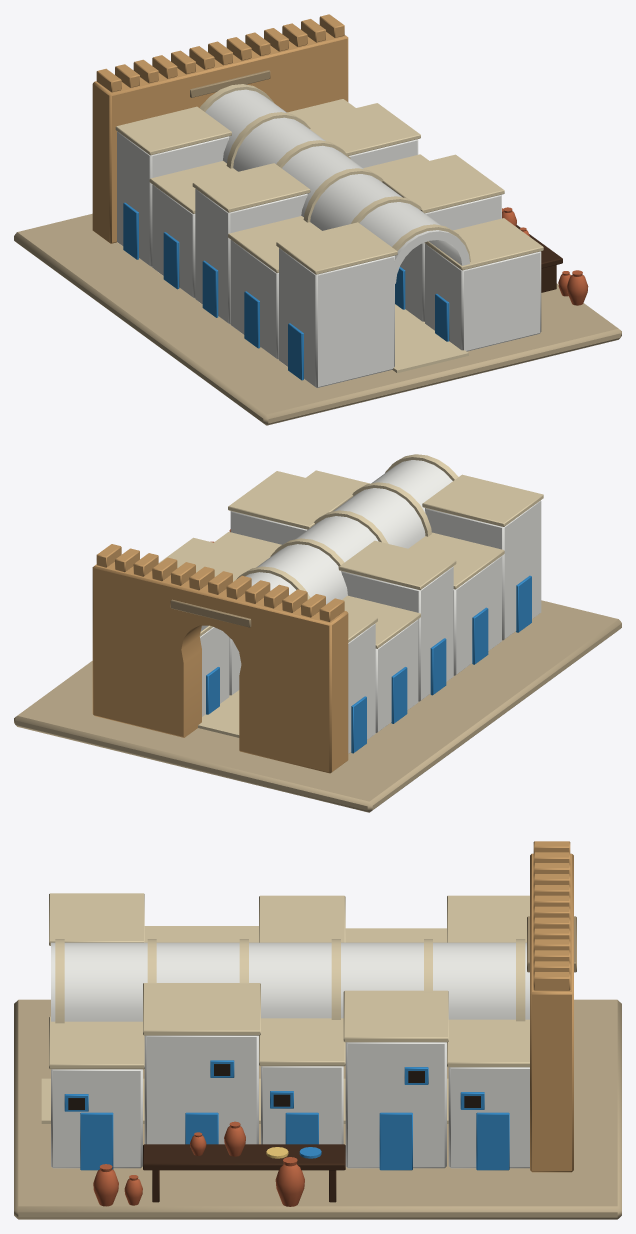
File: Monument_Medina.fbx
3 renders of one model, top to bottom at view 1: azimuth 30°, elevation 25°; view 2: azimuth 150°, elevation 25°; view 3: azimuth 270°, elevation 25°, orthographic. The views are drawn at different scales.
Visible parts, largest first — view 1: Monument_Medina; view 2: Monument_Medina; view 3: Monument_Medina.
Boxes of the visible parts, left/top/right/bottom form: Monument_Medina: left=14, top=14, right=621, bottom=425; Monument_Medina: left=14, top=454, right=621, bottom=812; Monument_Medina: left=14, top=841, right=621, bottom=1219.
Bounding box in the file's own units: 2.72 × 1.24 × 3.3.
